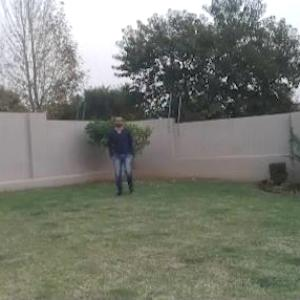follow: (108, 109, 134, 197)
